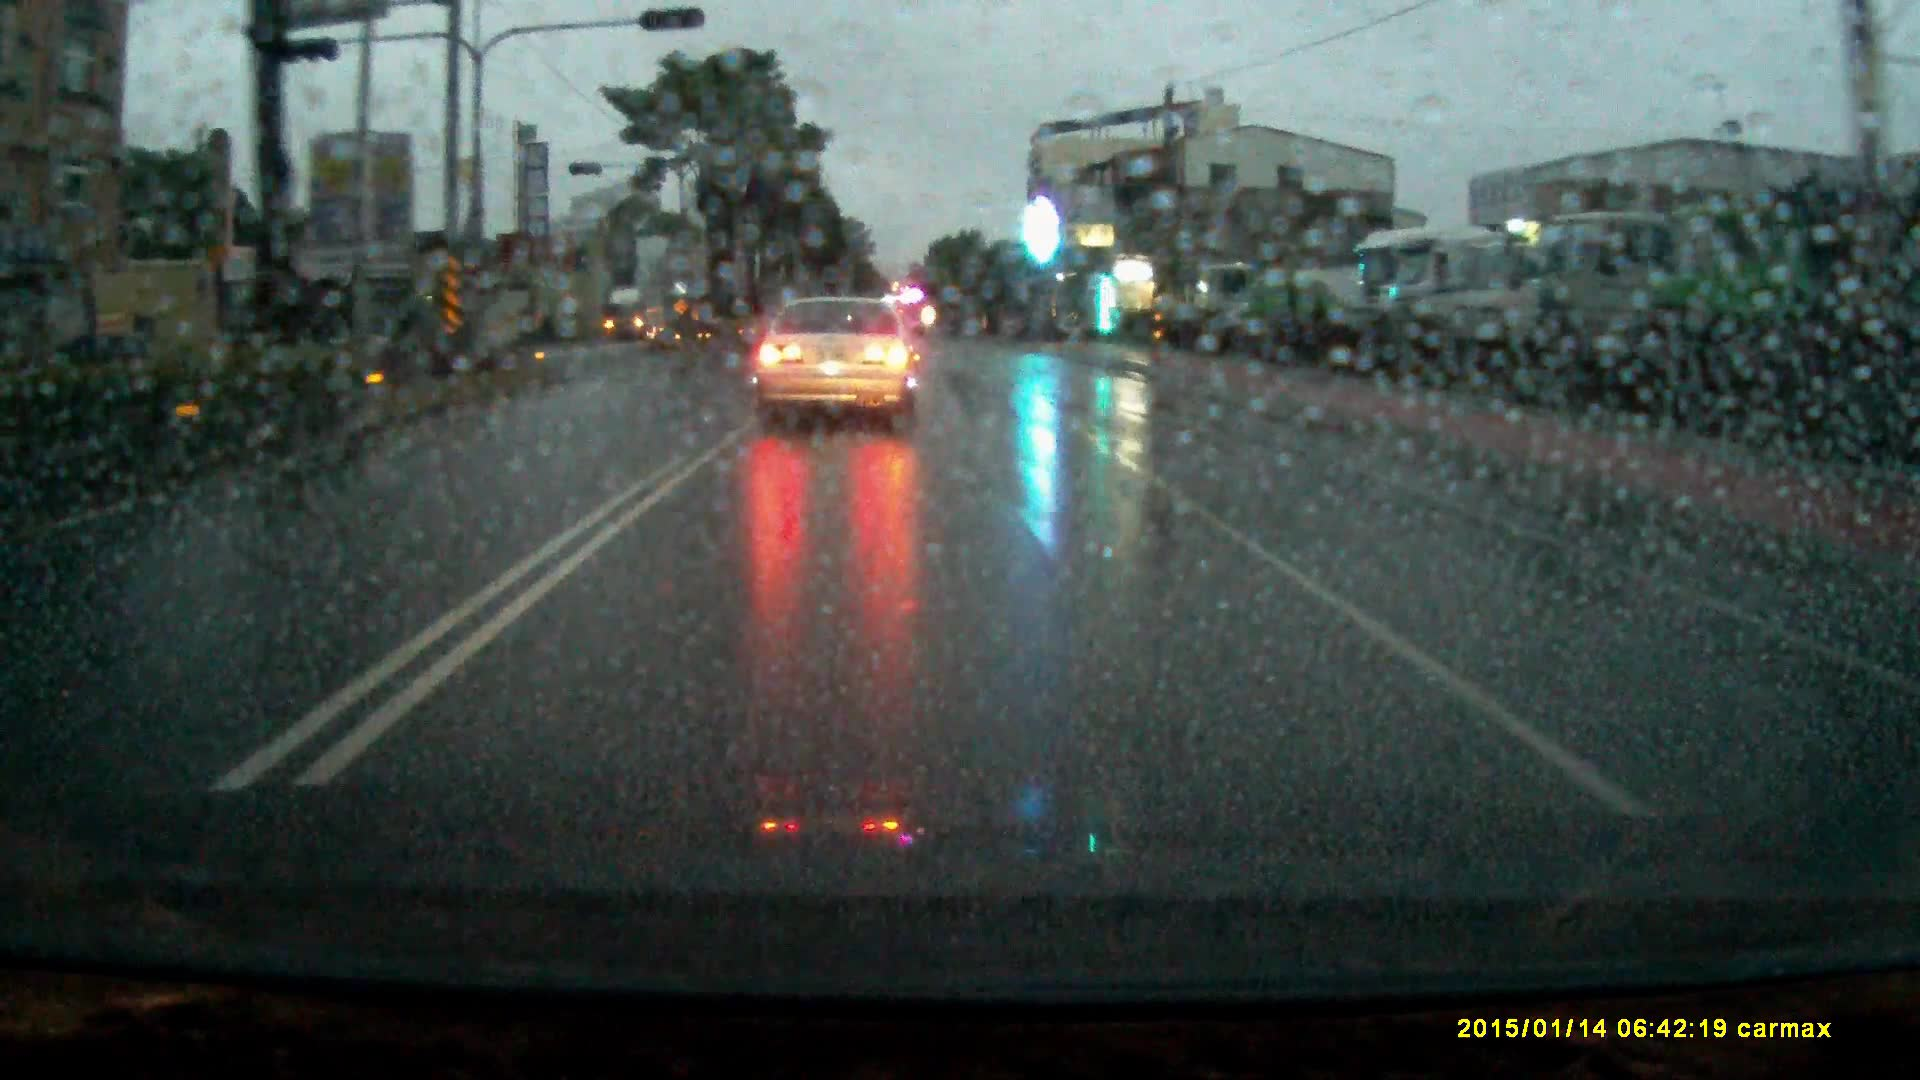vehicle: (1672, 195, 1818, 431), (1543, 207, 1669, 402), (753, 297, 923, 430), (1424, 225, 1540, 373), (1352, 235, 1445, 347), (1234, 270, 1377, 334), (1196, 262, 1261, 328), (607, 286, 669, 342)
